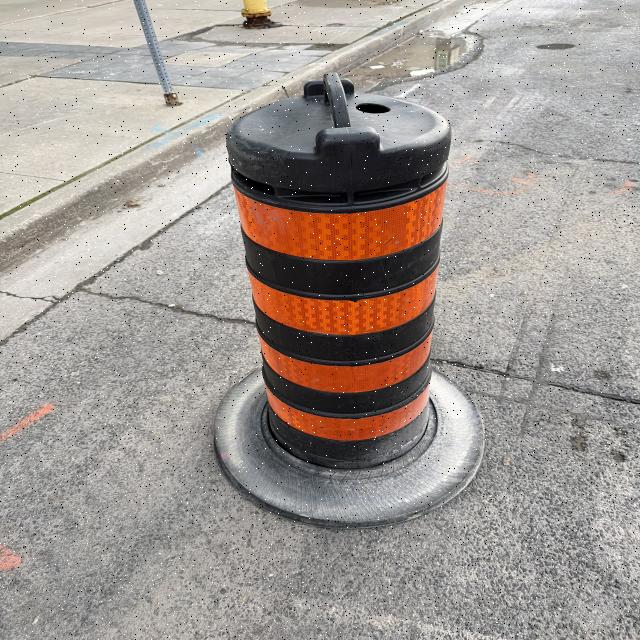Teraffic Barrel: (216, 74, 484, 526)
